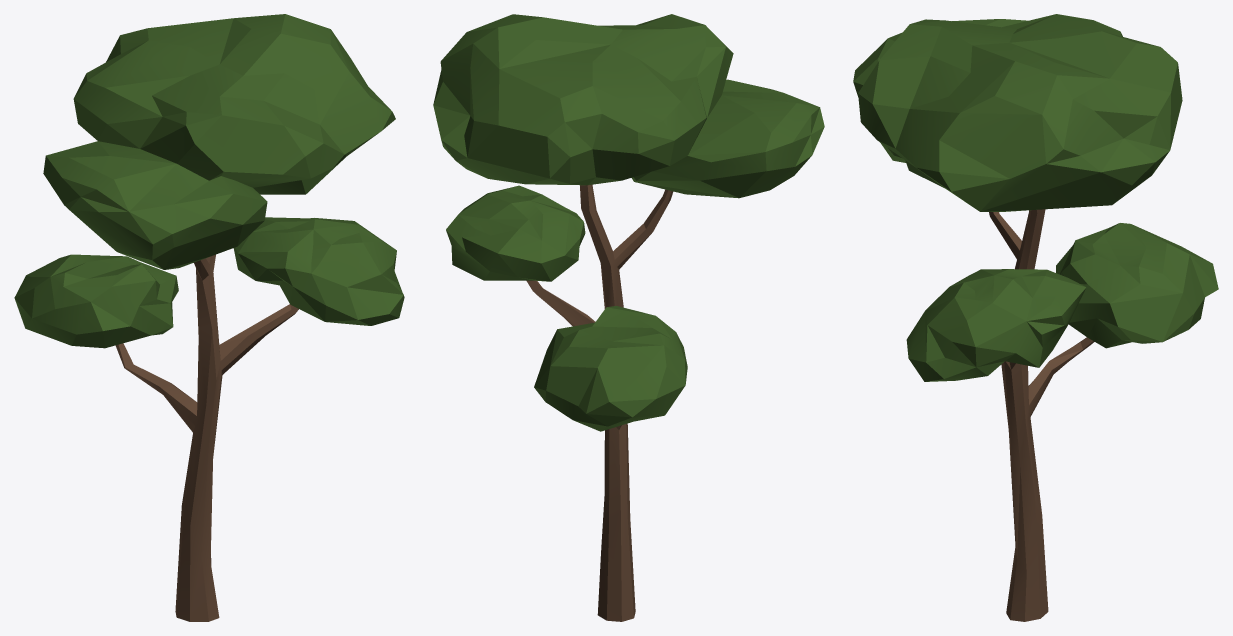
Rendered from BroadleafLTallA.fbx.
3 views of the same model, side by side, from view 1: azimuth 30°, elevation 25°; view 2: azimuth 150°, elevation 25°; view 3: azimuth 270°, elevation 25° (orthographic). The views are drawn at different scales.
Visible parts, largest first — view 1: BroadleafTallA; view 2: BroadleafTallA; view 3: BroadleafTallA.
Boxes of the visible parts, x1,y1,x2,y2 form: BroadleafTallA: (14, 14, 404, 621); BroadleafTallA: (433, 14, 824, 621); BroadleafTallA: (853, 14, 1218, 621).
Bounding box in the file's own units: 1520 × 2450 × 1373.
